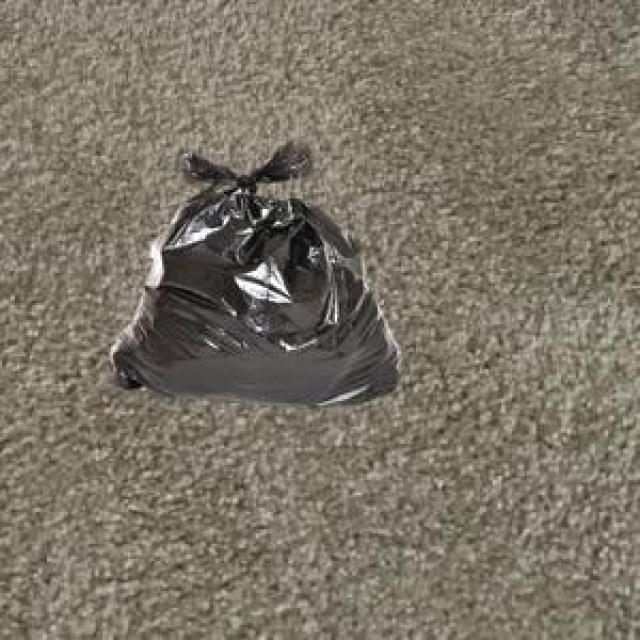Vinyl: (111, 142, 400, 404)
